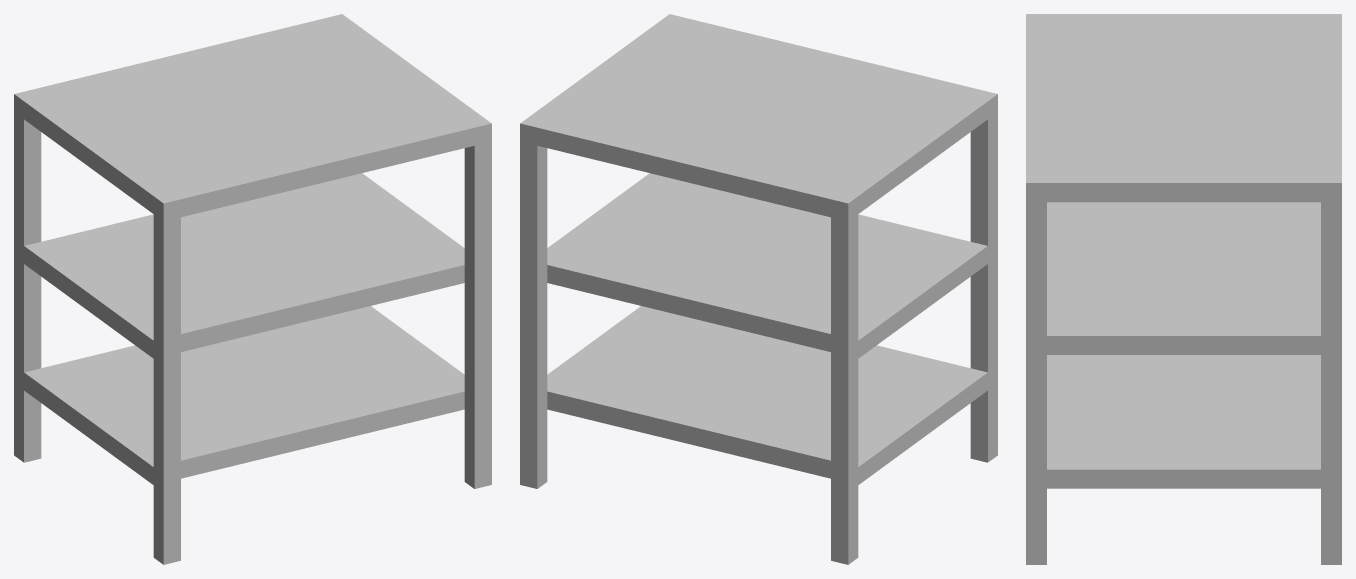
The model's file is dulap_raft.fbx.
3 views of the same model, side by side, from view 1: azimuth 30°, elevation 25°; view 2: azimuth 150°, elevation 25°; view 3: azimuth 270°, elevation 25° (orthographic). The views are drawn at different scales.
Parts seen in each view (by area): view 1: cube_6, cube_5, cube_4, cube_2, cube_1, cube_3; view 2: cube_6, cube_5, cube_4, cube_3, cube, cube_2; view 3: cube_6, cube_5, cube_4, cube, cube_1.
Boxes of the visible parts, box(x1,y1,x2,y2) form: cube_6: box(14, 14, 491, 221); cube_5: box(24, 173, 464, 358); cube_4: box(24, 306, 464, 484); cube_2: box(153, 214, 180, 564); cube_1: box(464, 141, 491, 488); cube_3: box(14, 112, 41, 462); cube_6: box(520, 14, 997, 221); cube_5: box(547, 173, 987, 358); cube_4: box(547, 306, 987, 484); cube_3: box(831, 214, 858, 564); cube: box(520, 141, 547, 488); cube_2: box(970, 112, 997, 462); cube_6: box(1026, 14, 1341, 202); cube_5: box(1047, 202, 1320, 354); cube_4: box(1047, 355, 1320, 488); cube: box(1321, 202, 1341, 564); cube_1: box(1026, 202, 1046, 564).
Bounding box in the file's own units: 119 × 125 × 93.75.
Materials: 1 (1 with a texture image).
